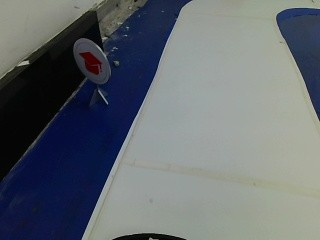school: (71, 37, 110, 84)
